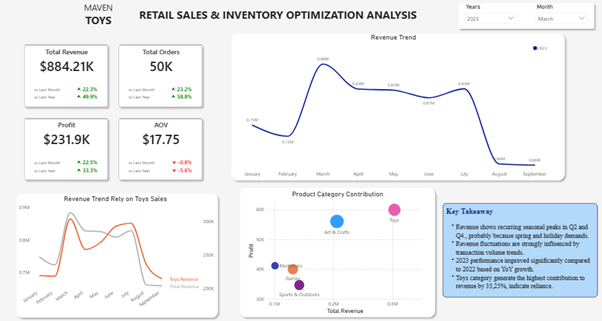

This screenshot's page, from the dashboard's own definition file:
{"tool":"powerbi","page":{"name":"Overview","canvas":[1500,800],"ordinal":0},"visuals":[{"type":"shape","box":[1131.2,0,356.2,82.5],"z":0},{"type":"shape","box":[587.5,460,503.8,340],"z":1000},{"type":"shape","box":[31.2,472.5,520,327.5],"z":2000},{"type":"shape","box":[566.7,75,848.3,385],"z":3000},{"type":"lineChart","title":"Revenue Trend","fields":{"Category":["toy_store calendar_clean.dates.Variation.Date Hierarchy.Month"],"Y":["toy_store sales_clean.Total Revenue"],"Series":["toy_store calendar_clean.dates.Variation.Date Hierarchy.Year"]},"box":[587.7,82.8,782.5,368.5],"z":4000},{"type":"cardVisual","fields":{"Data":["toy_store sales_clean.Total Orders"]},"box":[266.3,83.3,266.3,214.1],"z":5000},{"type":"cardVisual","fields":{"Data":["toy_store sales_clean.Profit"]},"box":[31,266.3,266.3,212.4],"z":6000},{"type":"cardVisual","fields":{"Data":["toy_store sales_clean.AOV"]},"box":[266.3,266.3,266.3,212.4],"z":7000},{"type":"cardVisual","fields":{"Data":["toy_store sales_clean.Total Revenue"]},"box":[31,83.3,266.3,214.1],"z":8000},{"type":"textbox","box":[325,15,733.3,58.3],"z":9000},{"type":"textbox","box":[165,0,160,90],"z":10000},{"type":"lineChart","title":"Revenue Trend Rely on Toys Sales","fields":{"Category":["toy_store calendar_clean.dates.Variation.Date Hierarchy.Month"],"Y":["toy_store sales_clean.Total Revenue"],"Y2":["toy_store products_clean.Toys Revenue"]},"box":[36.2,485,501.2,302.5],"z":11000},{"type":"scatterChart","title":"Product Category Contribution","fields":{"Category":["toy_store products_clean.product_category"],"X":["toy_store sales_clean.Total Revenue"],"Y":["toy_store sales_clean.Profit"],"Size":["toy_store sales_clean.Total Orders"]},"box":[611.2,472.5,457.5,315],"z":12000},{"type":"textbox","box":[1101.2,506.2,386.2,235],"z":13000},{"type":"slicer","fields":{"Values":["toy_store calendar_clean.years"]},"box":[1146.1,4.9,147.7,69.8],"z":14000},{"type":"slicer","fields":{"Values":["toy_store calendar_clean.dates.Variation.Date Hierarchy.Month"]},"box":[1323.1,4.9,147.7,73.1],"z":15000}]}

Visuals, with their boxes in screenshot pixels (x1, y1, x2, y2), scaled from the page's 1500x800 canvas onto the 602x321 screenshot:
shape: select_region(454, 0, 597, 33)
shape: select_region(236, 185, 438, 320)
shape: select_region(13, 190, 221, 320)
shape: select_region(227, 30, 568, 185)
"Revenue Trend" lineChart: select_region(236, 33, 550, 181)
cardVisual - toy_store sales_clean.Total Orders: select_region(107, 33, 214, 119)
cardVisual - toy_store sales_clean.Profit: select_region(12, 107, 119, 192)
cardVisual - toy_store sales_clean.AOV: select_region(107, 107, 214, 192)
cardVisual - toy_store sales_clean.Total Revenue: select_region(12, 33, 119, 119)
textbox: select_region(130, 6, 425, 29)
textbox: select_region(66, 0, 130, 36)
"Revenue Trend Rely on Toys Sales" lineChart: select_region(15, 195, 216, 316)
"Product Category Contribution" scatterChart: select_region(245, 190, 429, 316)
textbox: select_region(442, 203, 597, 297)
slicer - toy_store calendar_clean.years: select_region(460, 2, 519, 30)
slicer - toy_store calendar_clean.dates.Variation.Date Hierarchy.Month: select_region(531, 2, 590, 31)
